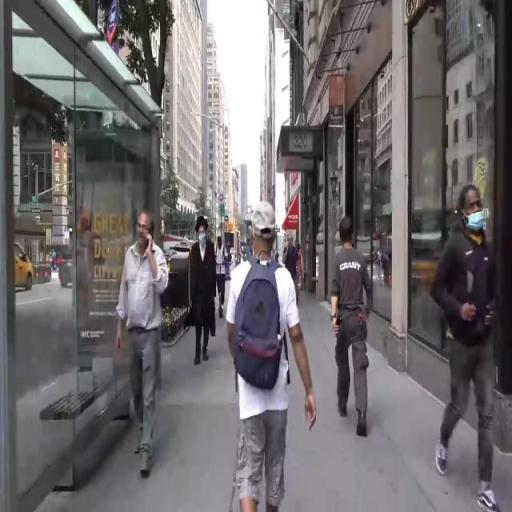person: (228, 204, 310, 512), (438, 172, 508, 512), (124, 201, 168, 475), (329, 218, 379, 432), (184, 206, 222, 377), (215, 234, 230, 311), (286, 235, 299, 294), (298, 237, 306, 292)
